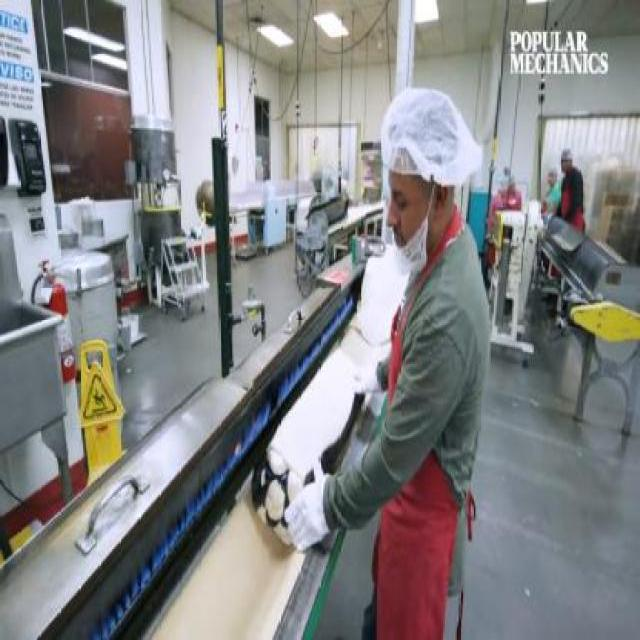hairnet: (382, 92, 481, 178)
